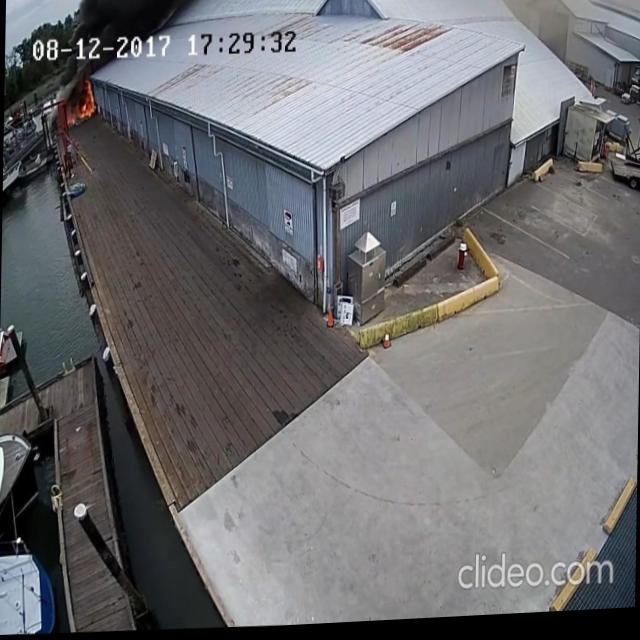fire: (73, 79, 97, 121)
